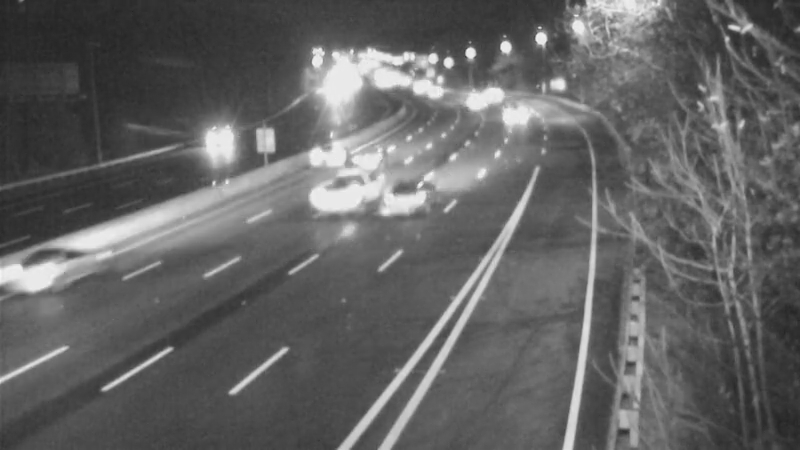vehicle: (330, 116, 410, 196), (286, 119, 366, 199), (366, 155, 446, 235), (296, 159, 376, 239), (1, 231, 75, 311), (492, 86, 542, 136), (211, 117, 261, 167)
